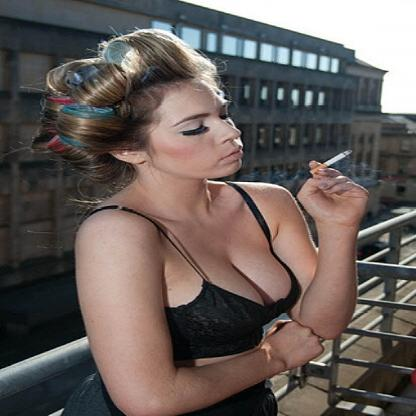smoking: (309, 150, 353, 174)
